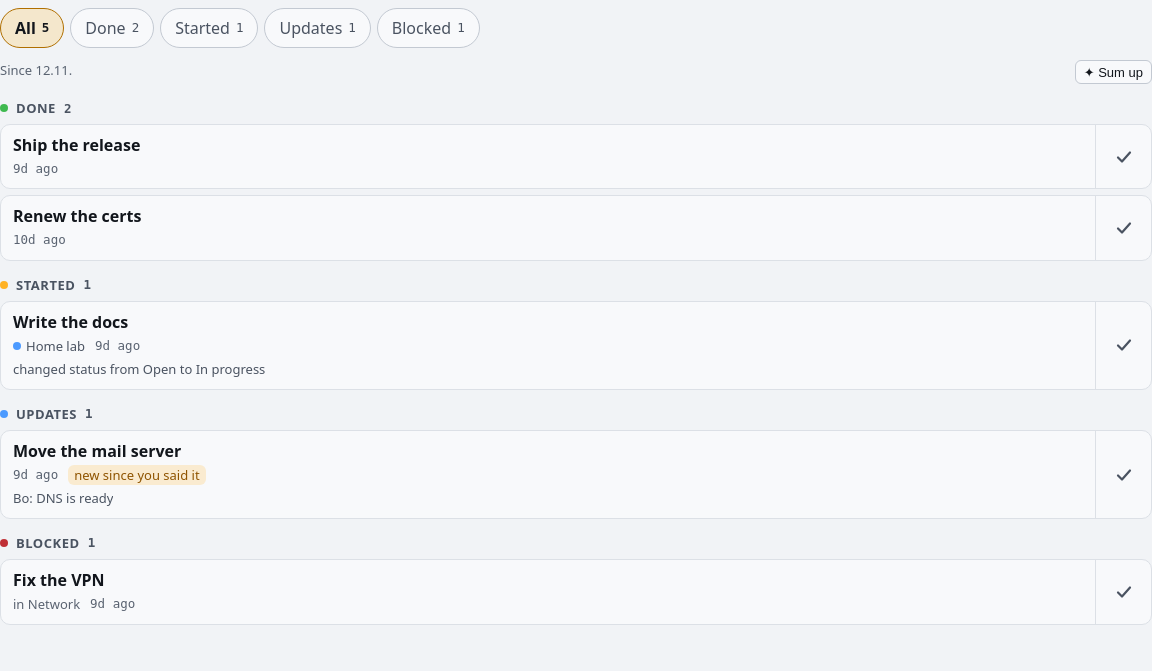
Test: sum up with the assistant › runs the prompt on the local Ollama when that is the assistant
Click the button "✦ Sum up". click: [1113, 72]
box: x1=1075 y1=60 x2=1151 y2=84
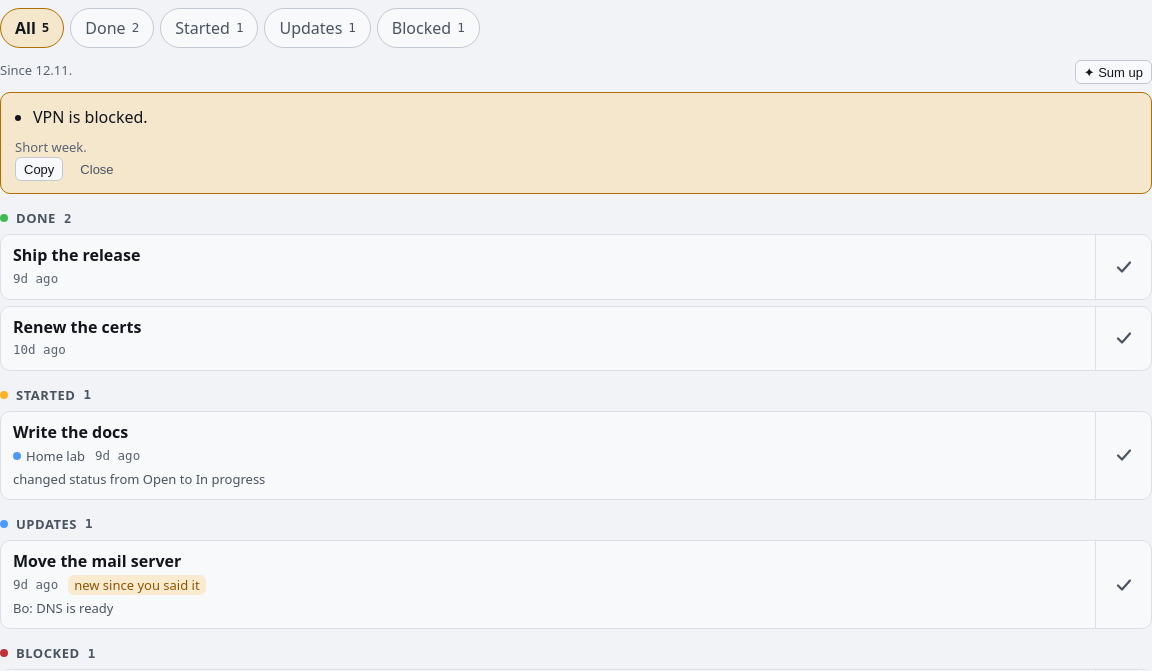
Expected: the list item "VPN is blocked." is shown, x1=33 y1=106 x2=148 y2=128
Expected: the text "Short week." is shown, x1=15 y1=138 x2=87 y2=156
